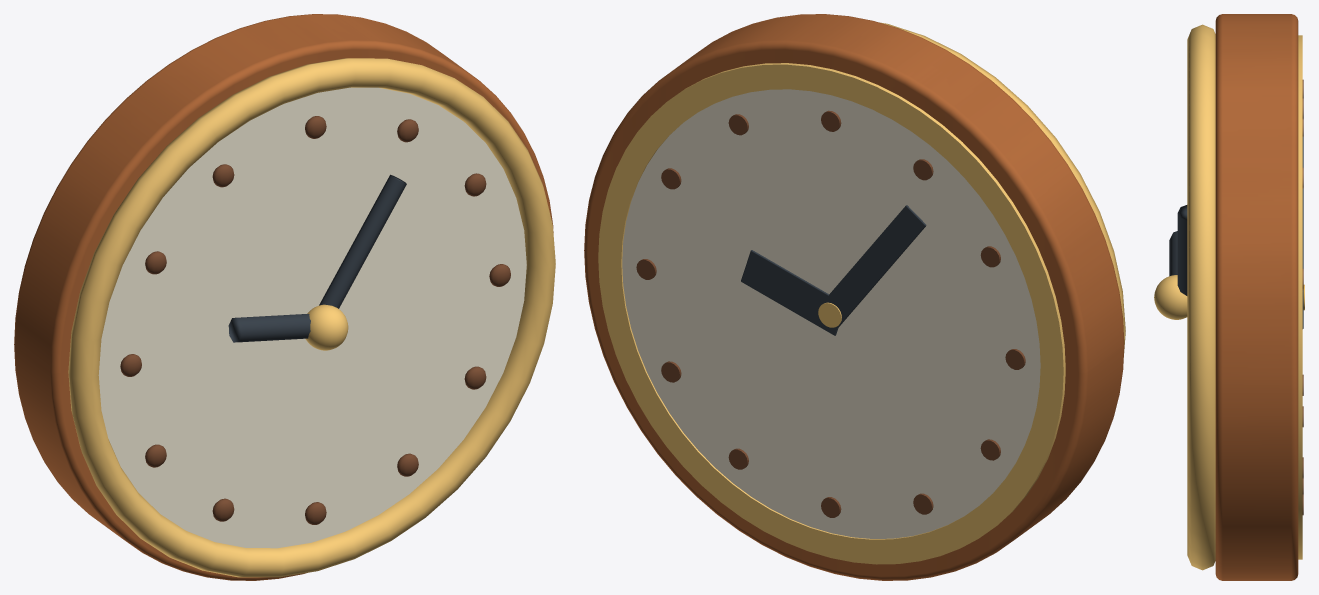
Rendered from CLOCK.glb.
3 renders of one model, left to right at view 1: azimuth 30°, elevation 25°; view 2: azimuth 150°, elevation 25°; view 3: azimuth 270°, elevation 25°, orthographic. The views are drawn at different scales.
Parts seen in each view (by area): view 1: CLOCK; view 2: CLOCK; view 3: CLOCK.
Part boxes in pixels (x1,y1,x2,y2): CLOCK: (14,14,555,580); CLOCK: (584,14,1125,580); CLOCK: (1154,14,1304,580).
Bounding box in the file's own units: 0.48 × 0.48 × 0.1275.
5 materials, 1 textured.
